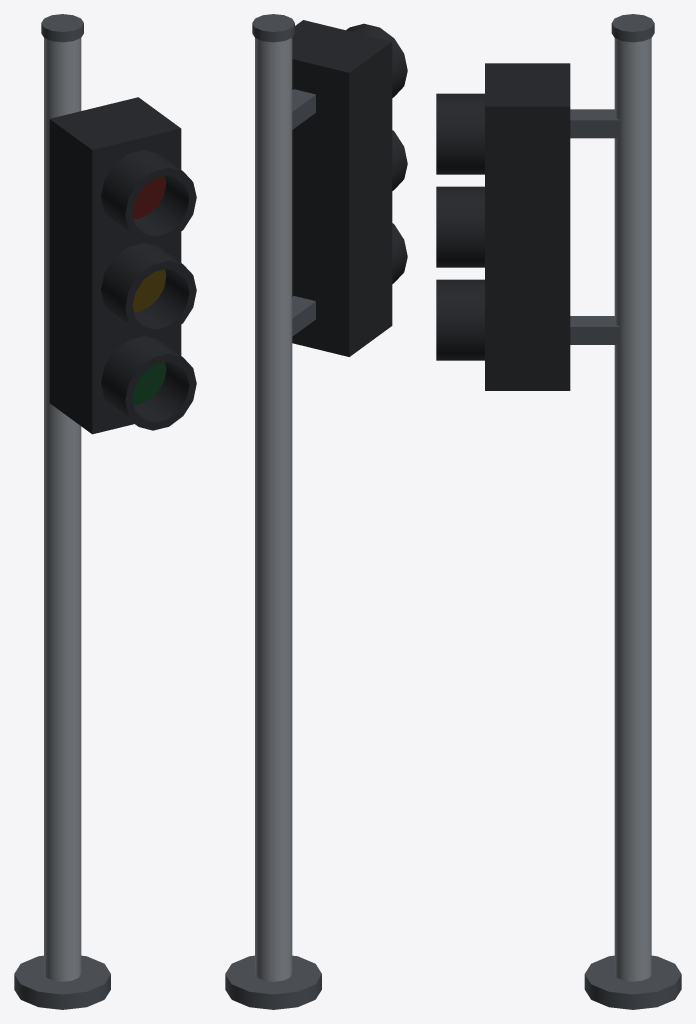
Rendered from semaforo-apagado.glb.
The picture shows the model from 3 angles, left to right: view 1: azimuth 30°, elevation 25°; view 2: azimuth 150°, elevation 25°; view 3: azimuth 270°, elevation 25°; orthographic projection.
Parts seen in each view (by area): view 1: Poste, Caixa, Viseiras, Luz_Verde, Luz_Vermelho, Luz_Amarelo; view 2: Poste, Caixa, Viseiras, Suportes; view 3: Poste, Caixa, Viseiras, Suportes.
Boxes of the visible parts, <box> form: Poste: <box>14,14,110,1009</box>; Caixa: <box>49,97,181,434</box>; Viseiras: <box>101,150,196,430</box>; Luz_Verde: <box>132,362,166,404</box>; Luz_Vermelho: <box>132,176,166,218</box>; Luz_Amarelo: <box>132,269,166,311</box>; Poste: <box>225,14,321,1009</box>; Caixa: <box>292,20,392,356</box>; Viseiras: <box>346,23,407,283</box>; Suportes: <box>292,89,315,336</box>; Poste: <box>584,14,681,1009</box>; Caixa: <box>485,63,570,390</box>; Viseiras: <box>436,93,484,360</box>; Suportes: <box>570,109,620,344</box>.
Size of the model in its own units: 0.36 by 3.74 by 0.86.
